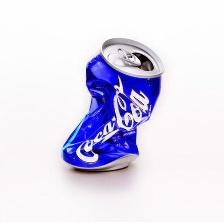can: (57, 35, 167, 177)
